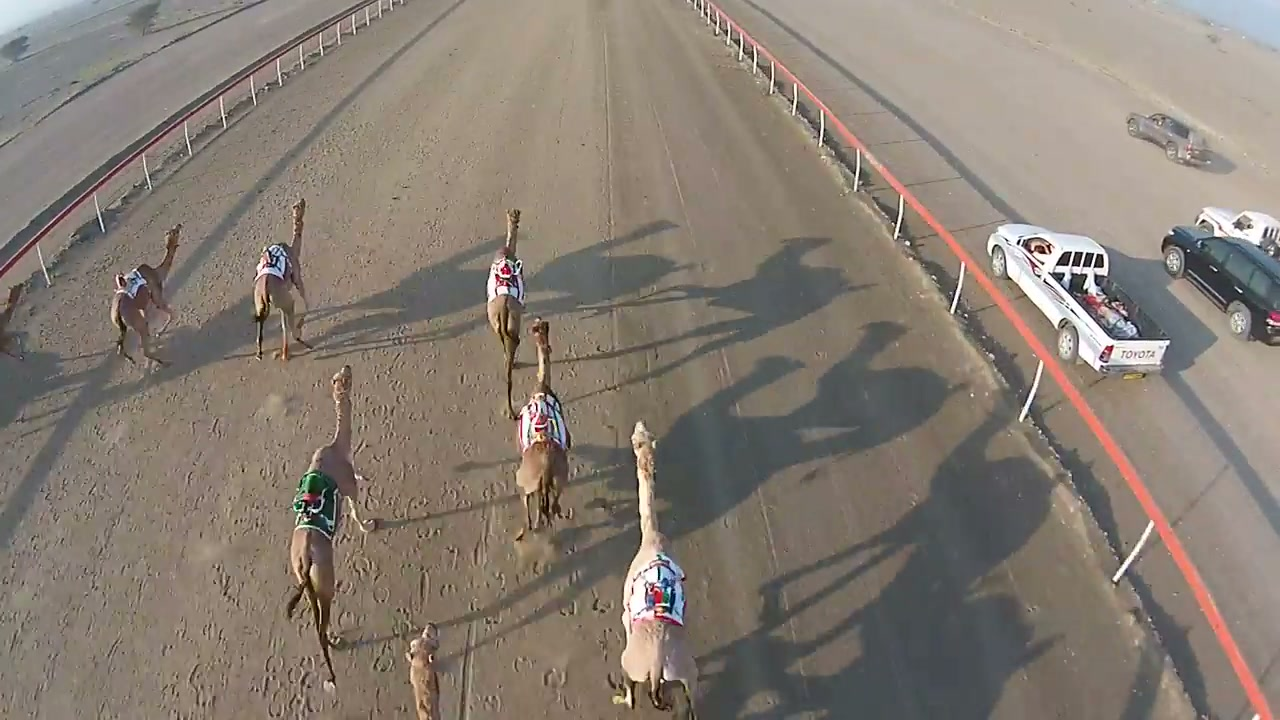animal_foot_print: (38, 398, 200, 719), (215, 374, 320, 698), (366, 356, 466, 669), (495, 511, 635, 713)
